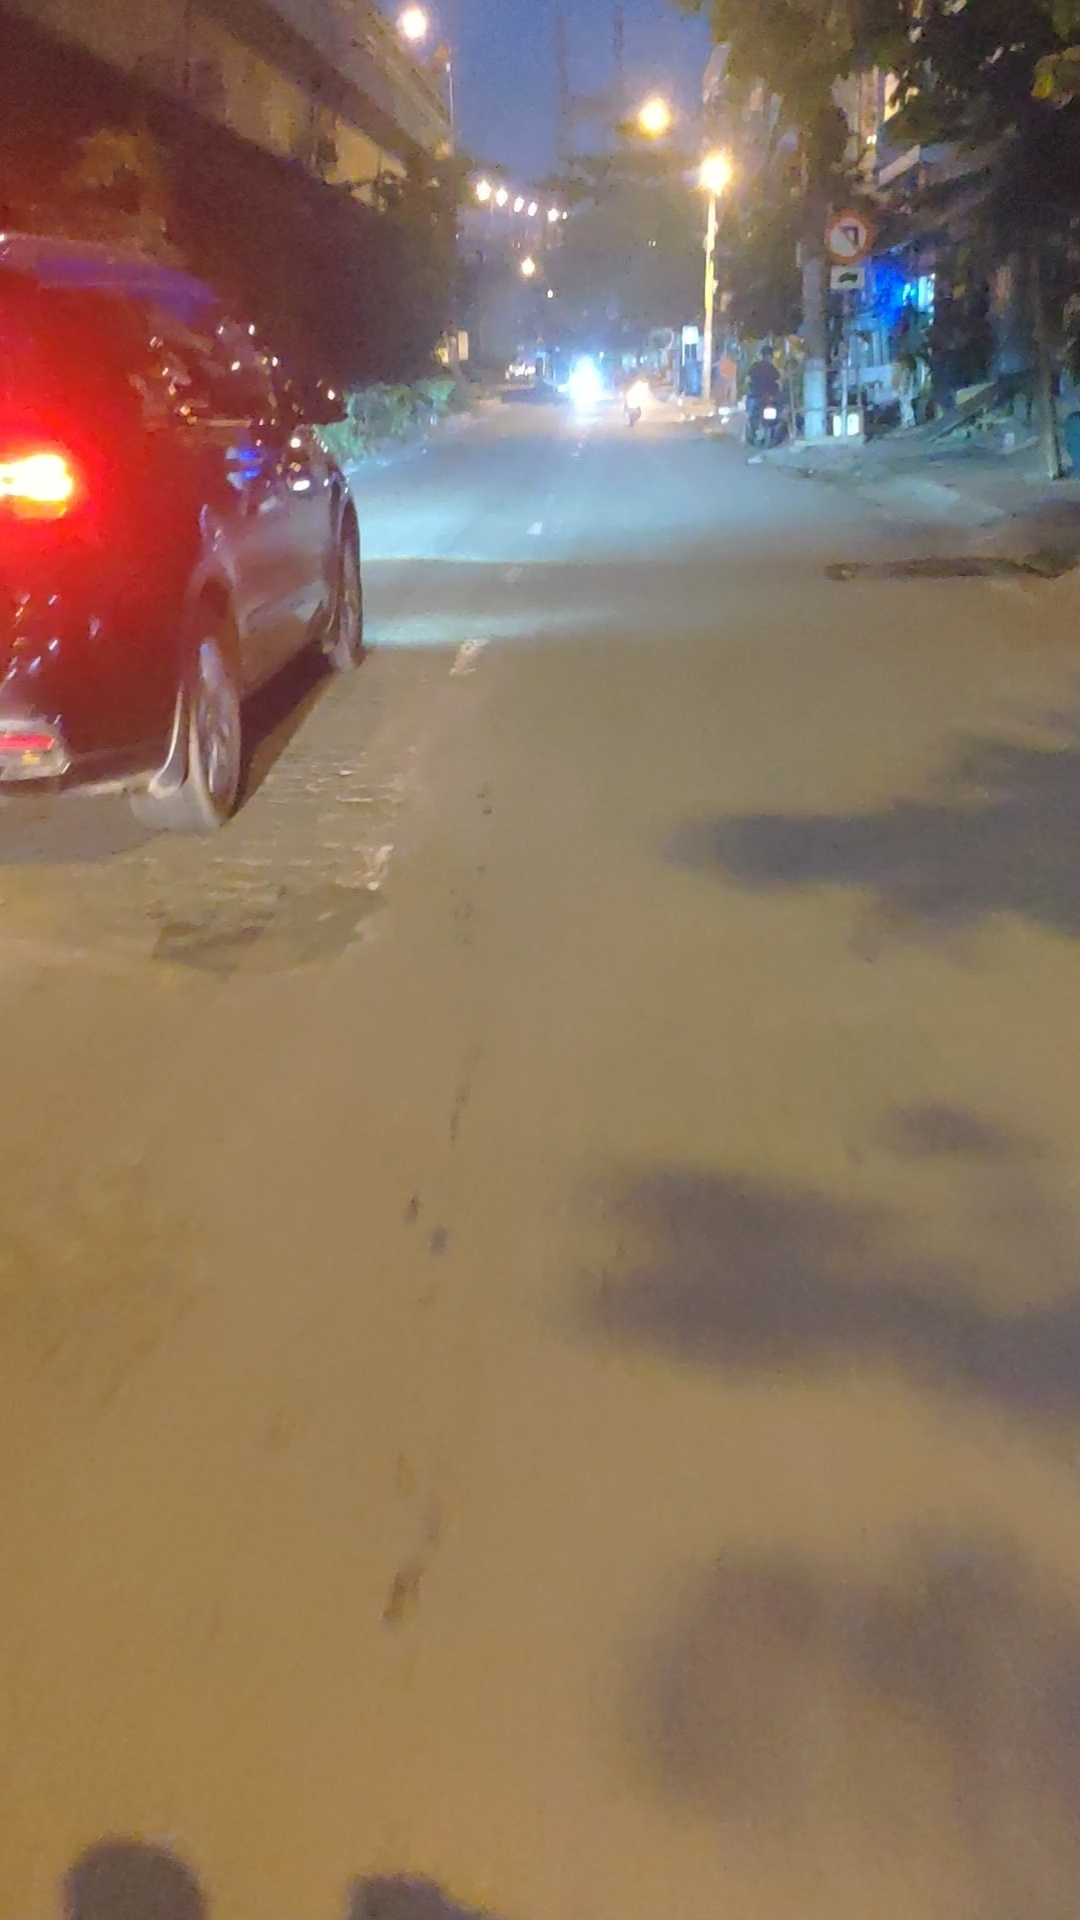hole: (804, 542, 1050, 585)
